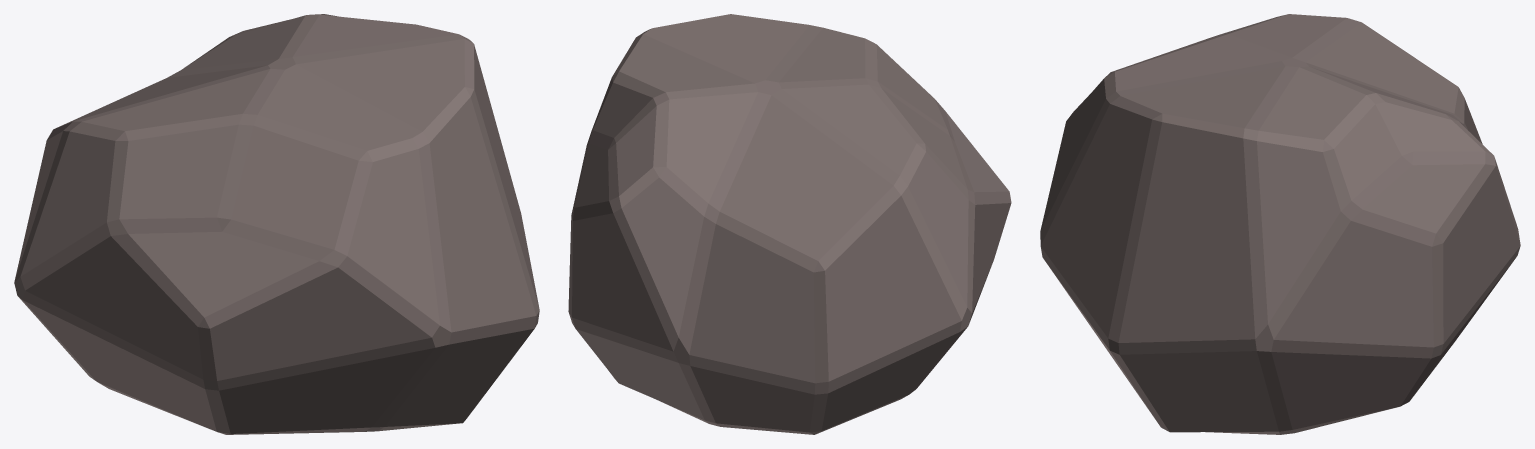
File: MediumRock.fbx
The picture shows the model from 3 angles, left to right: view 1: azimuth 30°, elevation 25°; view 2: azimuth 150°, elevation 25°; view 3: azimuth 270°, elevation 25°; orthographic projection. The views are drawn at different scales.
Parts seen in each view (by area): view 1: RockMid; view 2: RockMid; view 3: RockMid.
Part boxes in pixels (x1,y1,x2,y2): RockMid: [14, 14, 539, 434]; RockMid: [568, 14, 1011, 434]; RockMid: [1040, 14, 1520, 434].
Size of the model in its own units: 189 by 146 by 182.
